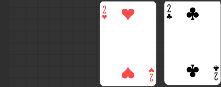2C: (166, 3, 174, 21)
2H: (102, 5, 109, 21)
